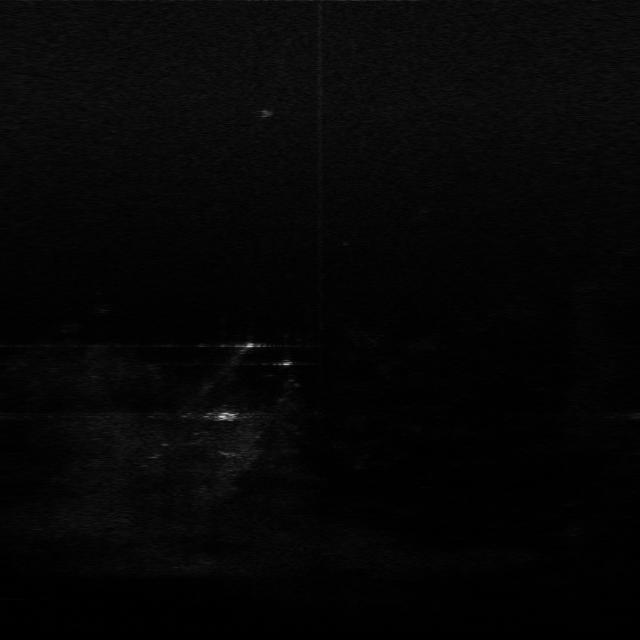rov: (212, 406, 246, 426)
